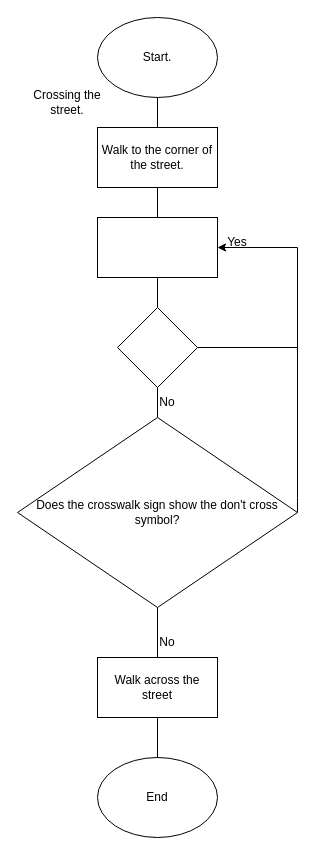
The diagram is 323 pixels wide and 855 high, and some of its shapes have lost their labels. Here are the shapes that lost their labels. From the top down, the centre of each, then its label:
the point at 157,247: Look Both Ways
the point at 157,347: Is a car coming?
